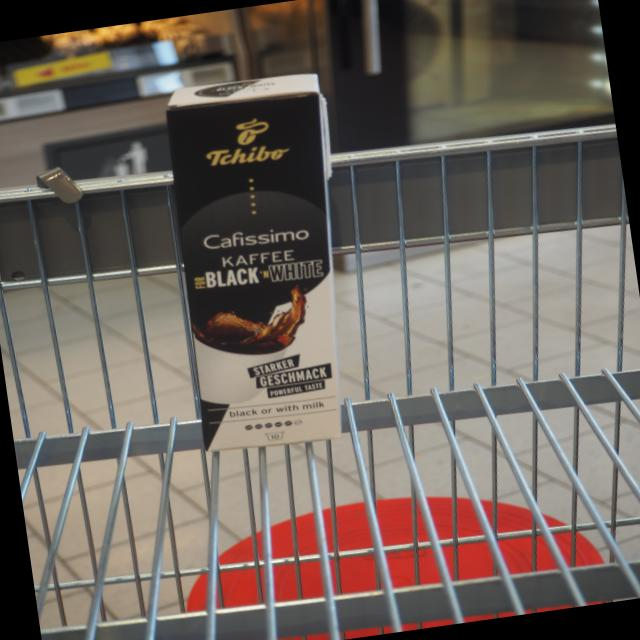Simo Kaffee BW: (159, 67, 348, 462)
